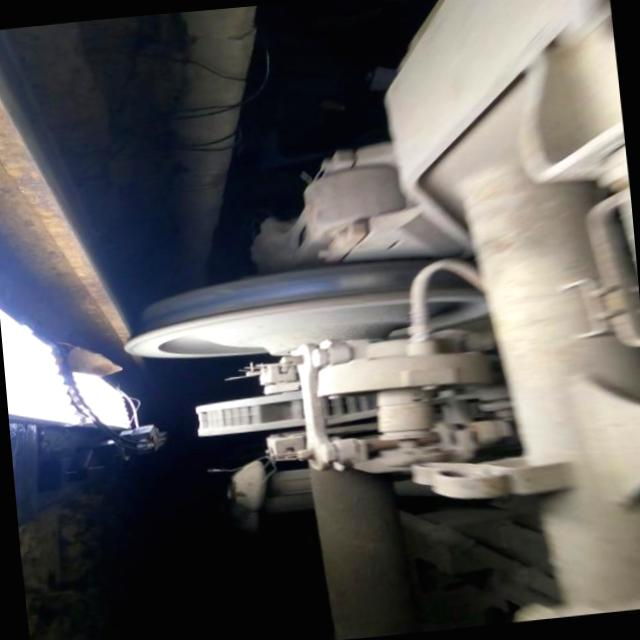Shelling: (340, 272, 386, 291)
Wheel: (125, 259, 428, 358)
